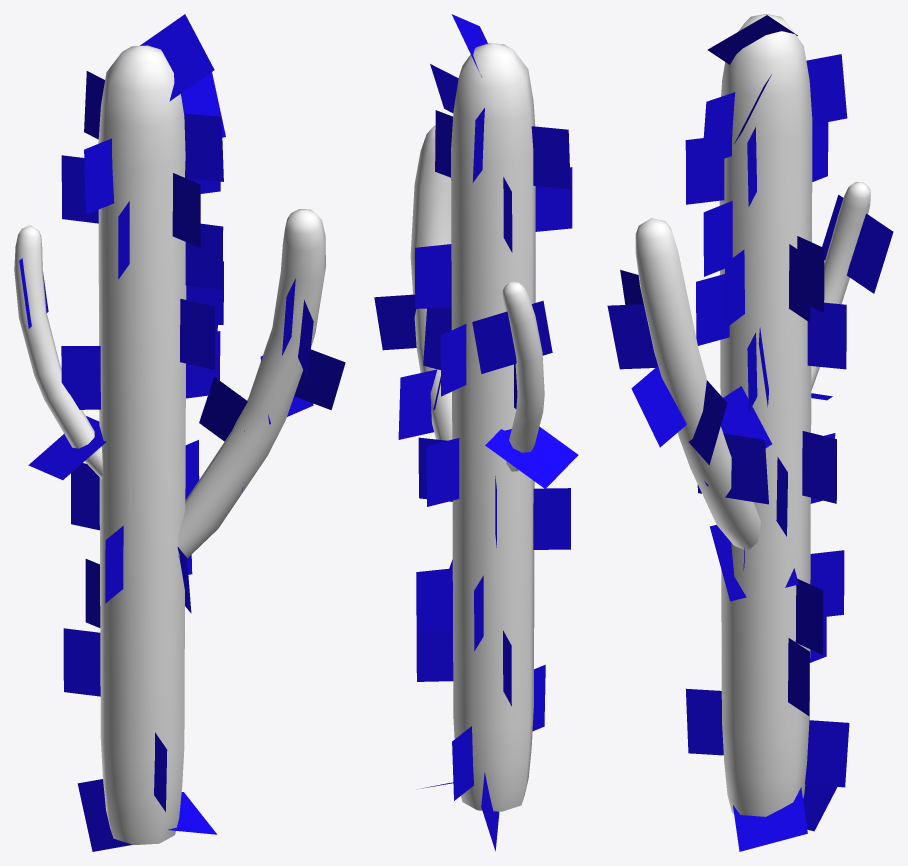
Rendered from Cactus1.fbx.
The picture shows the model from 3 angles, left to right: view 1: azimuth 30°, elevation 25°; view 2: azimuth 150°, elevation 25°; view 3: azimuth 270°, elevation 25°; orthographic projection. The views are drawn at different scales.
Visible parts, largest first — view 1: Cactus2_01; view 2: Cactus2_01; view 3: Cactus2_01.
Boxes of the visible parts, x1,y1,x2,y2 form: Cactus2_01: (14,14,345,851); Cactus2_01: (374,14,578,851); Cactus2_01: (607,14,893,851).
Bounding box in the file's own units: 21.71 × 75.32 × 22.96.
